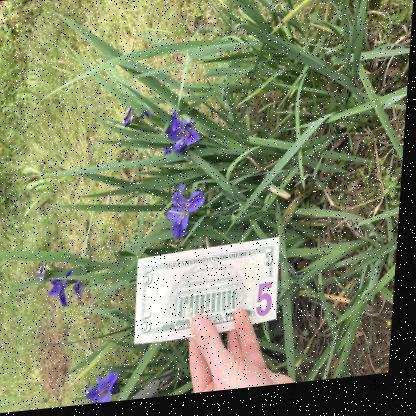five-back: (139, 241, 284, 347)
